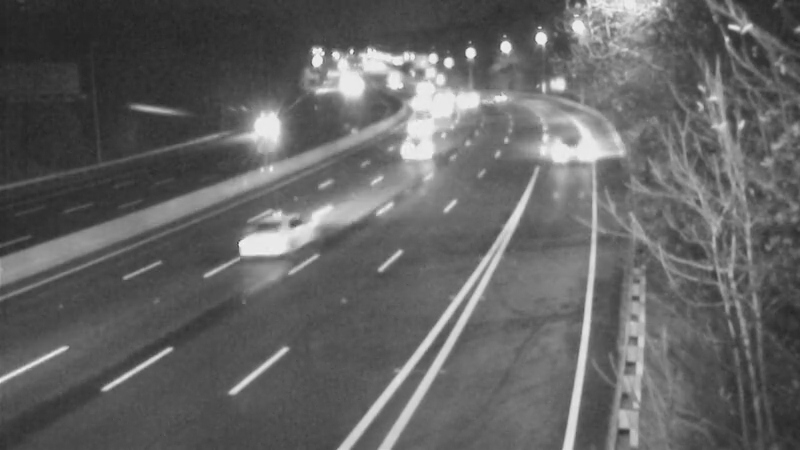vehicle: (523, 115, 603, 195), (368, 113, 448, 193), (236, 191, 316, 271), (447, 75, 497, 125), (387, 78, 437, 128), (481, 75, 531, 125), (411, 87, 461, 137), (385, 102, 435, 152), (239, 109, 289, 159)
